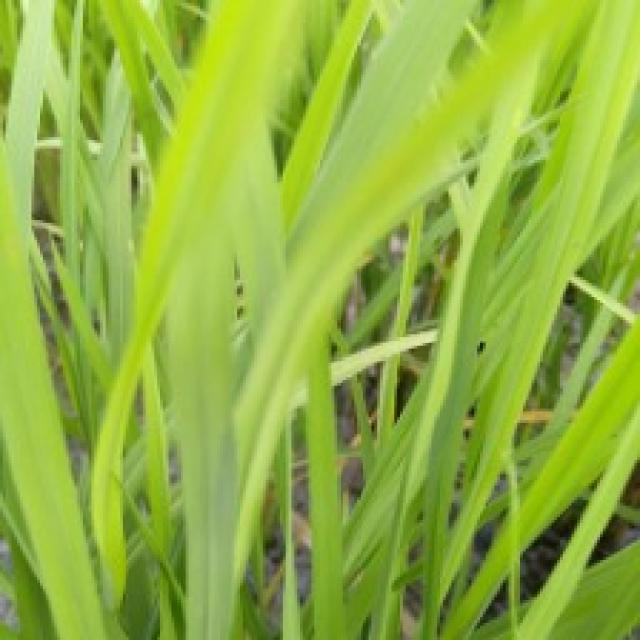Brown_Spot: (476, 339, 489, 360)
